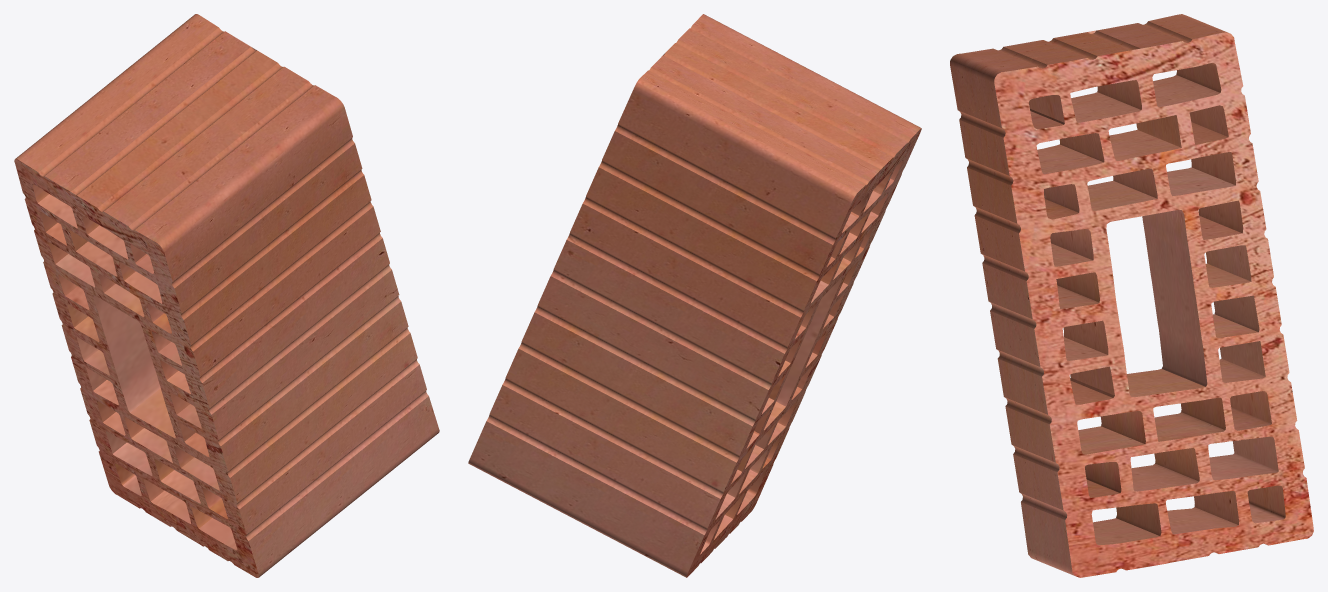
The model's file is brick.dae.
3 renders of one model, left to right at view 1: azimuth 30°, elevation 25°; view 2: azimuth 150°, elevation 25°; view 3: azimuth 270°, elevation 25°, orthographic. The views are drawn at different scales.
Visible parts, largest first — view 1: brick1_000; view 2: brick1_000; view 3: brick1_000.
Boxes of the visible parts, x1,y1,x2,y2 form: brick1_000: (14, 14, 439, 577); brick1_000: (468, 14, 921, 577); brick1_000: (950, 14, 1313, 577).
Size of the model in its own units: 1.83 by 1.4 by 2.31.
Materials: 1 (1 with a texture image).
